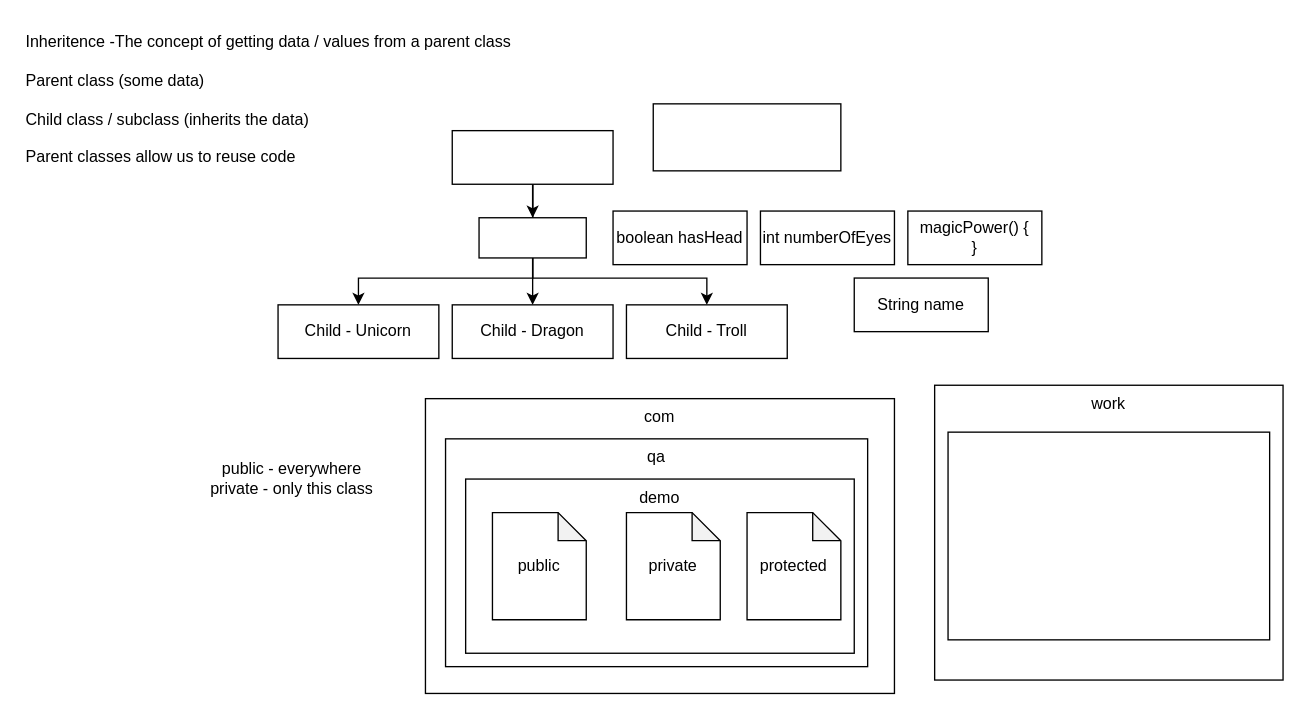
This 1307x717 diagram has some shape labels left out. The centre of each missing label's shape, as x and y in pixels:
"Attributes common in sub classes" goes at point 746,137.
"natwest" goes at point 1108,535.
"Parent - Mythological creatures" goes at point 532,156.
"some data" goes at point 532,237.
